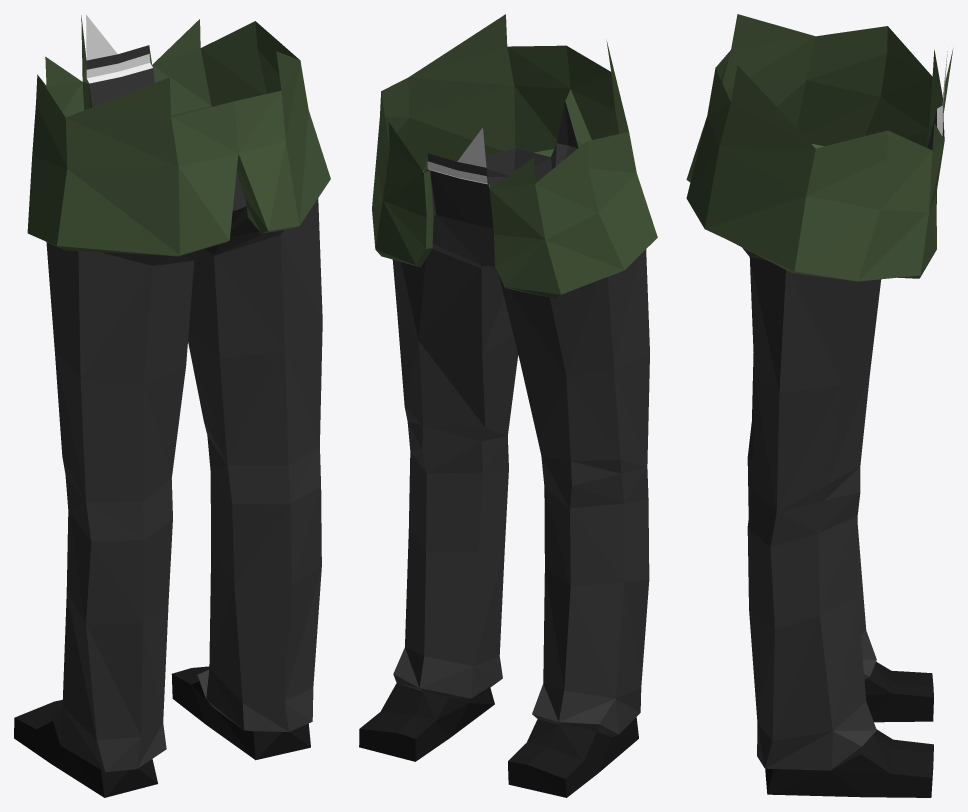
File: Legs.obj
3 views of the same model, side by side, from view 1: azimuth 30°, elevation 25°; view 2: azimuth 150°, elevation 25°; view 3: azimuth 270°, elevation 25° (orthographic). The views are drawn at different scales.
Size of the model in its own units: 0.4176 by 1.05 by 0.3594.
1 material, 1 textured.
